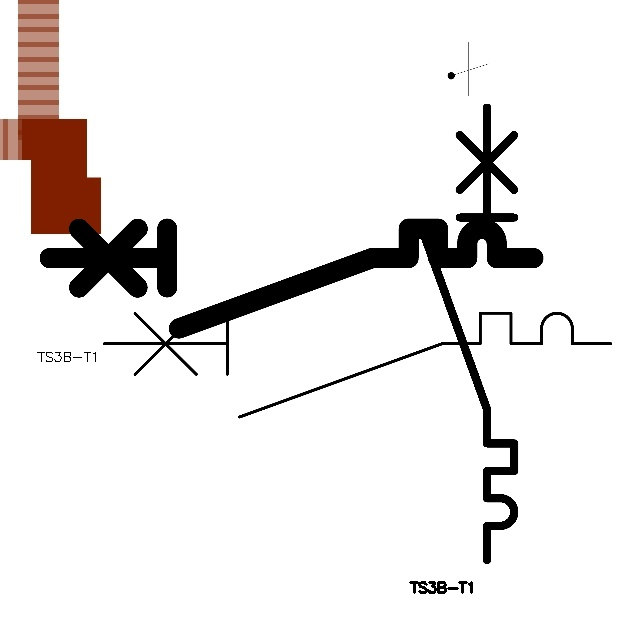interruptor_termomagnetico: (91, 300, 624, 430), (37, 216, 546, 340), (410, 95, 526, 571)
